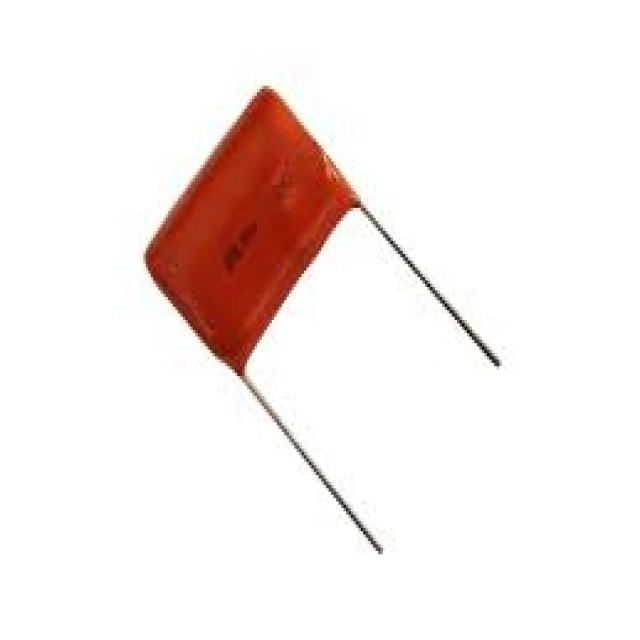Capacitor: (143, 89, 504, 558), (146, 89, 366, 426), (146, 89, 366, 393)
